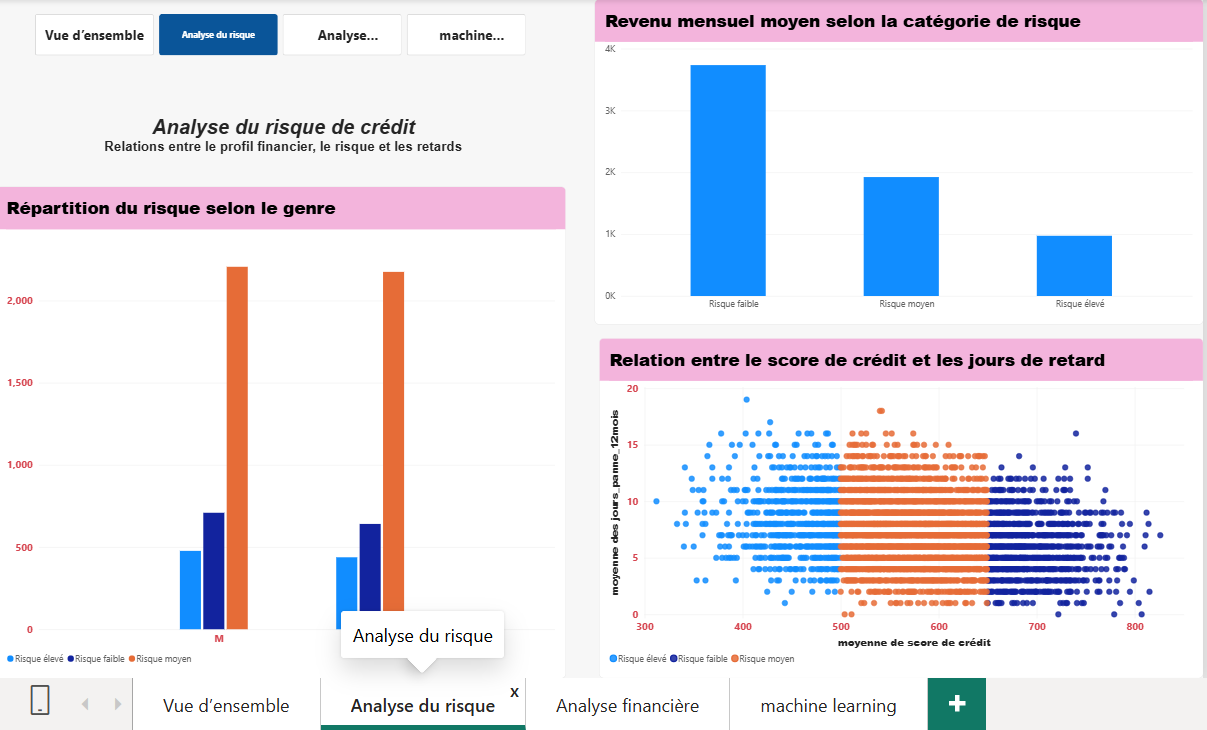

The dashboard page shown, as its layout file describes it:
{"tool":"powerbi","page":{"name":"Analyse du risque","canvas":[1920,1080],"ordinal":1},"visuals":[{"type":"clusteredColumnChart","title":"Répartition du risque selon le genre","fields":{"Category":["banking_analysis_final.genre"],"Series":["banking_analysis_final.categorie_risque"],"Y":["CountNonNull(banking_analysis_final.ID)"]},"box":[0,298.2,906.6,782.6],"z":0},{"type":"scatterChart","title":"Relation entre le score de crédit et les jours de retard","fields":{"Category":["banking_analysis_final.ID"],"Series":["banking_analysis_final.categorie_risque"],"X":["Avg(banking_analysis_final.score de crédit)"],"Y":["Avg(banking_analysis_final.jours_panne_12mois)"]},"box":[959.1,539.2,961.5,541.6],"z":1000},{"type":"textbox","box":[54.9,186.1,804.1,74],"z":2000},{"type":"clusteredColumnChart","title":"Revenu mensuel moyen selon la catégorie de risque","fields":{"Category":["banking_analysis_final.categorie_risque"],"Y":["Avg(banking_analysis_final.entrées_mensuelles)"]},"box":[952,0,968.7,517.7],"z":3000},{"type":"pageNavigator","box":[62,23.9,782.6,66.8],"z":8000}]}

Visuals, with their boxes on the page's 1920x1080 design canvas (x1, y1, x2, y2). These are canvas units, not pixel positions in the 1207x730 screenshot, which may show the page scaled, cropped or inside an application window:
"Répartition du risque selon le genre" clusteredColumnChart: left=0, top=298, right=907, bottom=1081
"Relation entre le score de crédit et les jours de retard" scatterChart: left=959, top=539, right=1921, bottom=1081
textbox: left=55, top=186, right=859, bottom=260
"Revenu mensuel moyen selon la catégorie de risque" clusteredColumnChart: left=952, top=0, right=1921, bottom=518
pageNavigator: left=62, top=24, right=845, bottom=91
